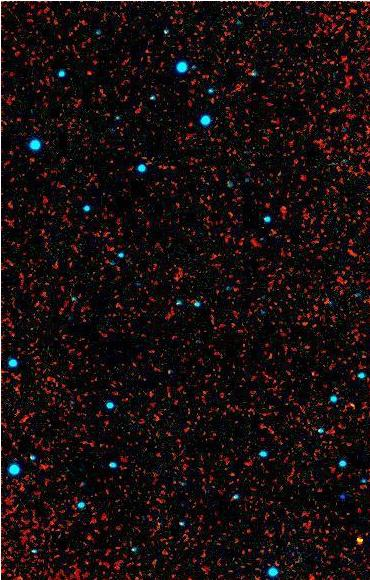star: (347, 524, 370, 554)
